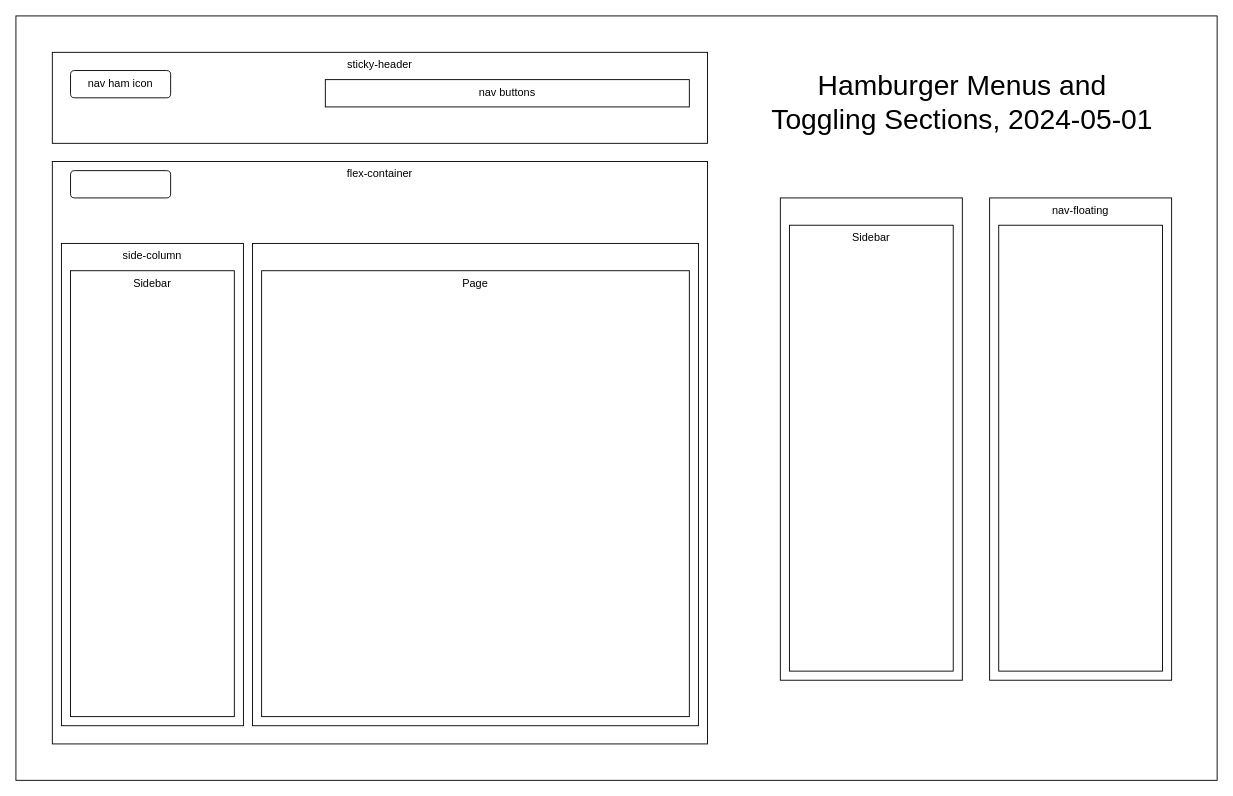
This 1233x796 diagram has some shape labels left out. Each missing label, with the box of its shape:
dev ham icon: (70, 170, 171, 198)
main-column: (252, 243, 698, 726)
nav-buttons: (998, 224, 1163, 671)
side-floating: (779, 197, 962, 680)
